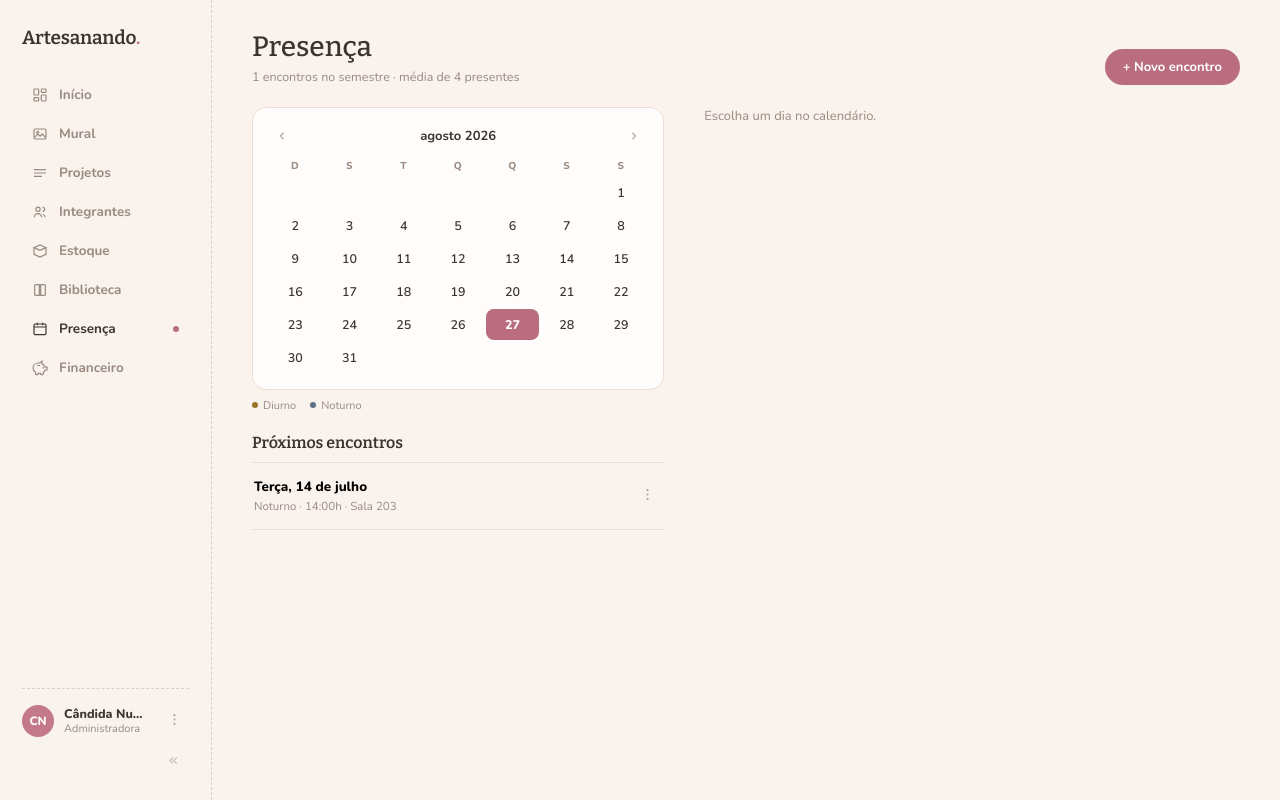
Test case: presença (M4) › o encontro novo escolhe o turno e pode repetir toda semana
Click the button "+ Novo encontro" at (1172, 67), box [1105,49,1240,85]
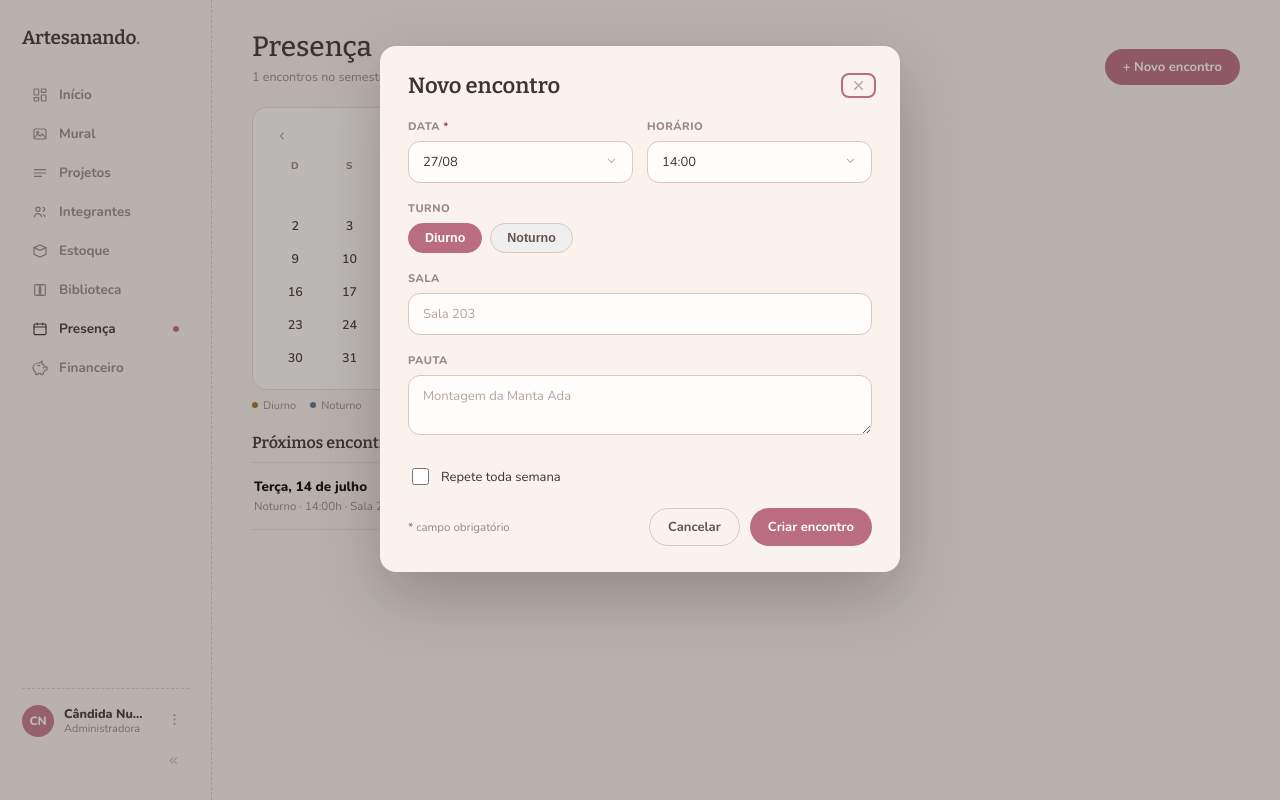
Result: the button "Noturno" is shown at [490,223,573,253]
Result: the checkbox labelled "Repete toda semana" is shown at [412,468,429,485]
